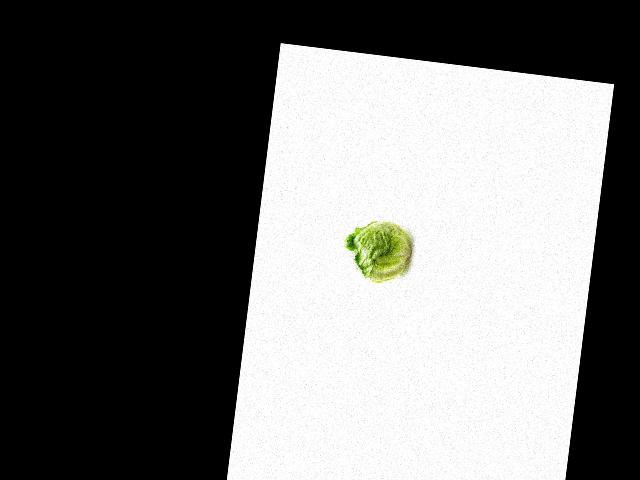lettuce: (339, 214, 417, 292)
